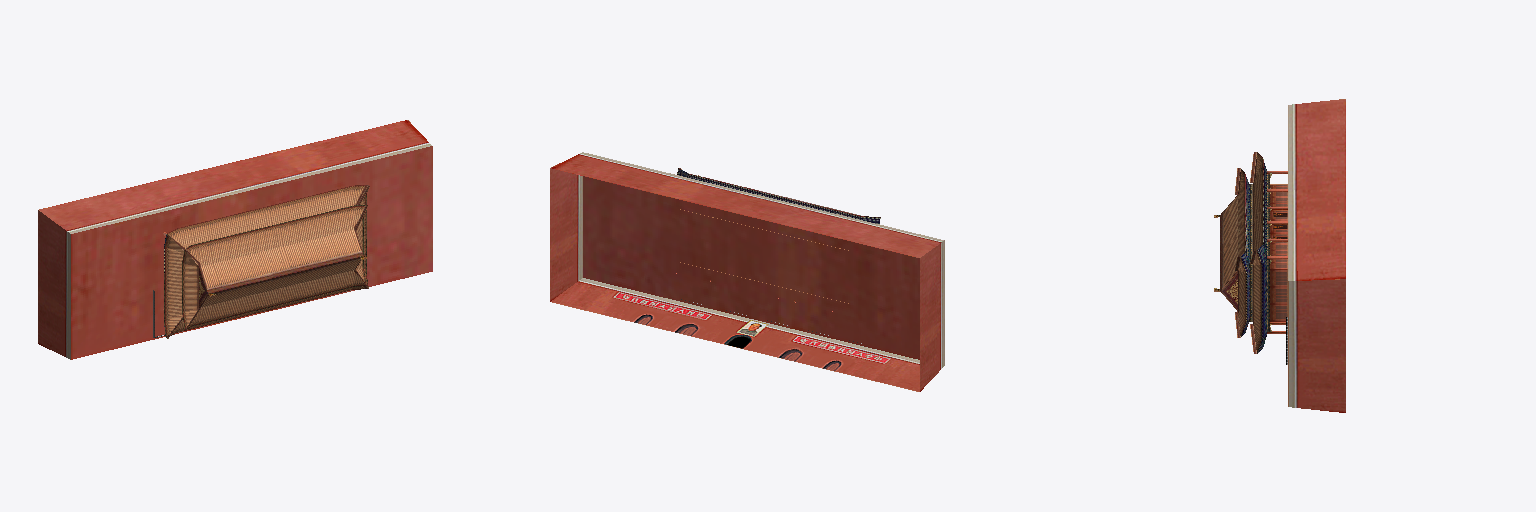
3 views of the same model, side by side, from view 1: azimuth 30°, elevation 25°; view 2: azimuth 150°, elevation 25°; view 3: azimuth 270°, elevation 25° (orthographic).
Parts seen in each view (by area): view 1: ma; view 2: ma; view 3: ma.
Boxes of the visible parts, x1,y1,x2,y2 form: ma: [38, 120, 432, 359]; ma: [550, 152, 944, 391]; ma: [1214, 99, 1345, 412].
Bounding box in the file's own units: 119 × 41.16 × 36.88.
1 materials, 1 textured.